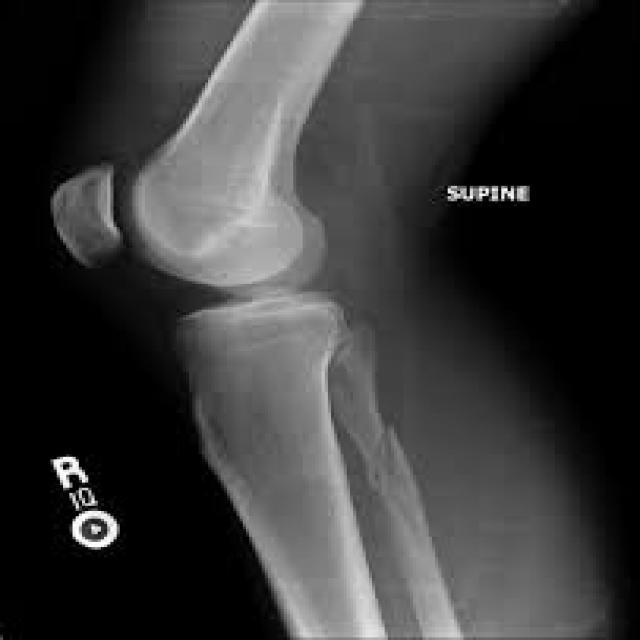Spiral: (311, 307, 438, 511)
